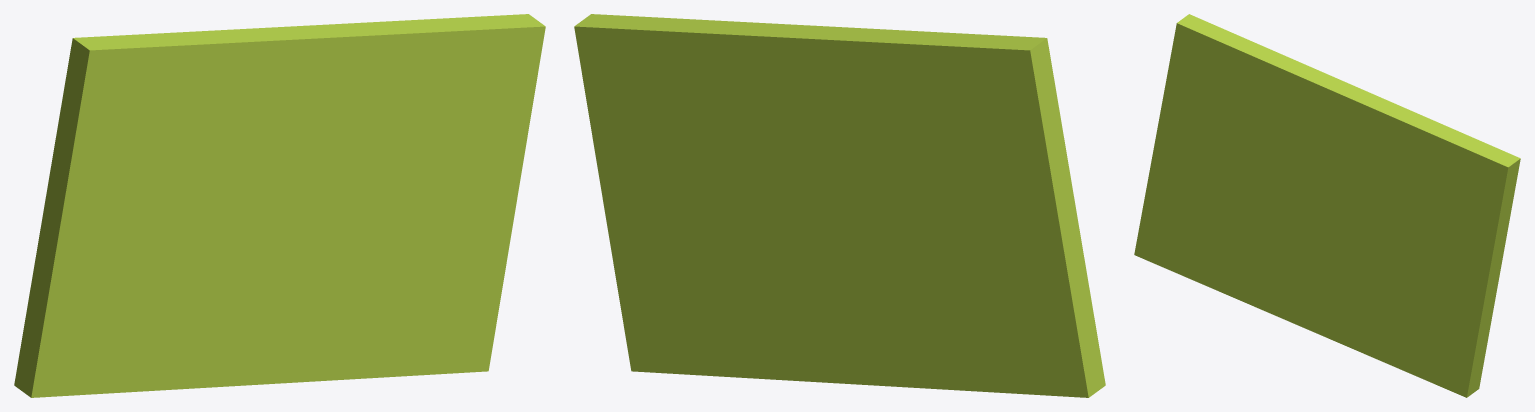
3 views of the same model, side by side, from view 1: azimuth 30°, elevation 25°; view 2: azimuth 150°, elevation 25°; view 3: azimuth 330°, elevation 25° (orthographic). The views are drawn at different scales.
Parts seen in each view (by area): view 1: osm-way27917482-F3; view 2: osm-way27917482-F3; view 3: osm-way27917482-F3.
Boxes of the visible parts, box(x1,y1,x2,y2) form: osm-way27917482-F3: box(14, 14, 545, 397); osm-way27917482-F3: box(574, 14, 1105, 397); osm-way27917482-F3: box(1134, 14, 1520, 397).
Size of the model in its own units: 2.61 by 2.02 by 0.15.
